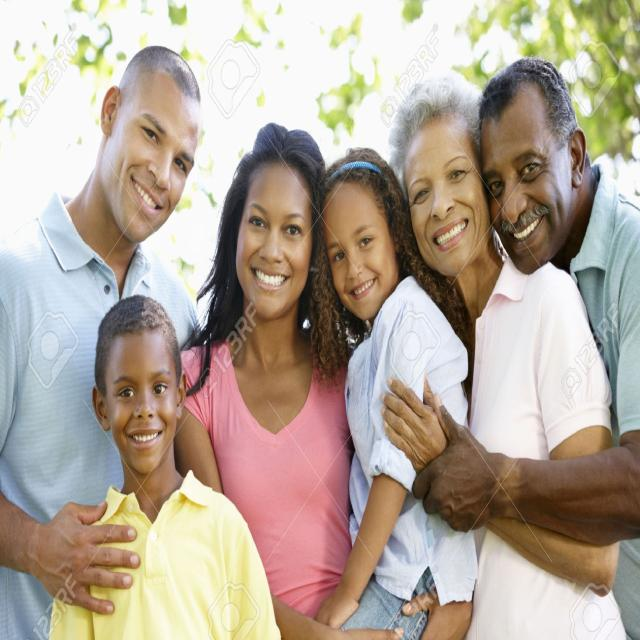body: (378, 70, 628, 640), (409, 57, 640, 640), (0, 32, 212, 639), (174, 121, 370, 640), (42, 289, 286, 639), (307, 146, 474, 639)
